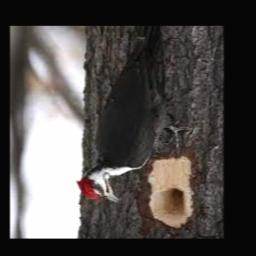Woodpecker: (77, 27, 188, 204)
